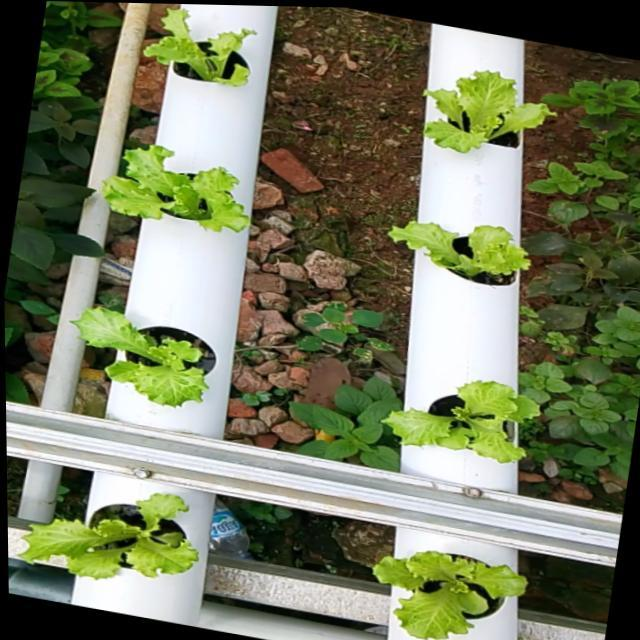Baby: (368, 525, 522, 636), (13, 484, 193, 571), (70, 307, 216, 407), (99, 145, 249, 232), (375, 377, 534, 459), (421, 71, 553, 153), (386, 221, 529, 286), (141, 10, 253, 87)
